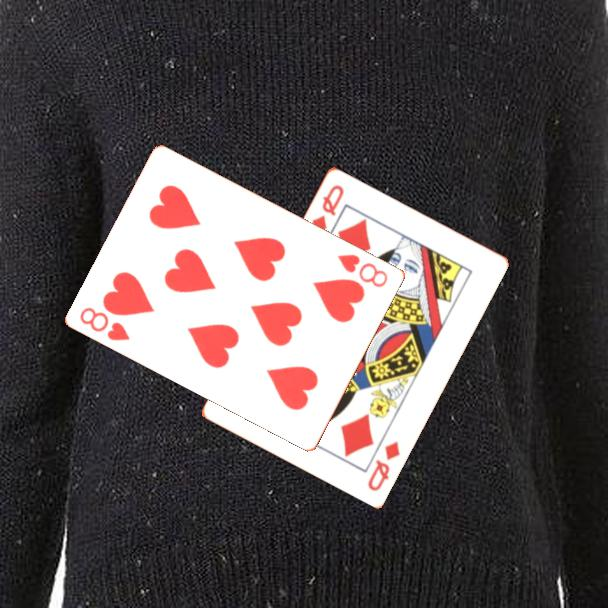d12: (364, 437, 403, 494), (308, 181, 347, 237)
h08: (334, 250, 391, 291), (76, 303, 133, 344)
